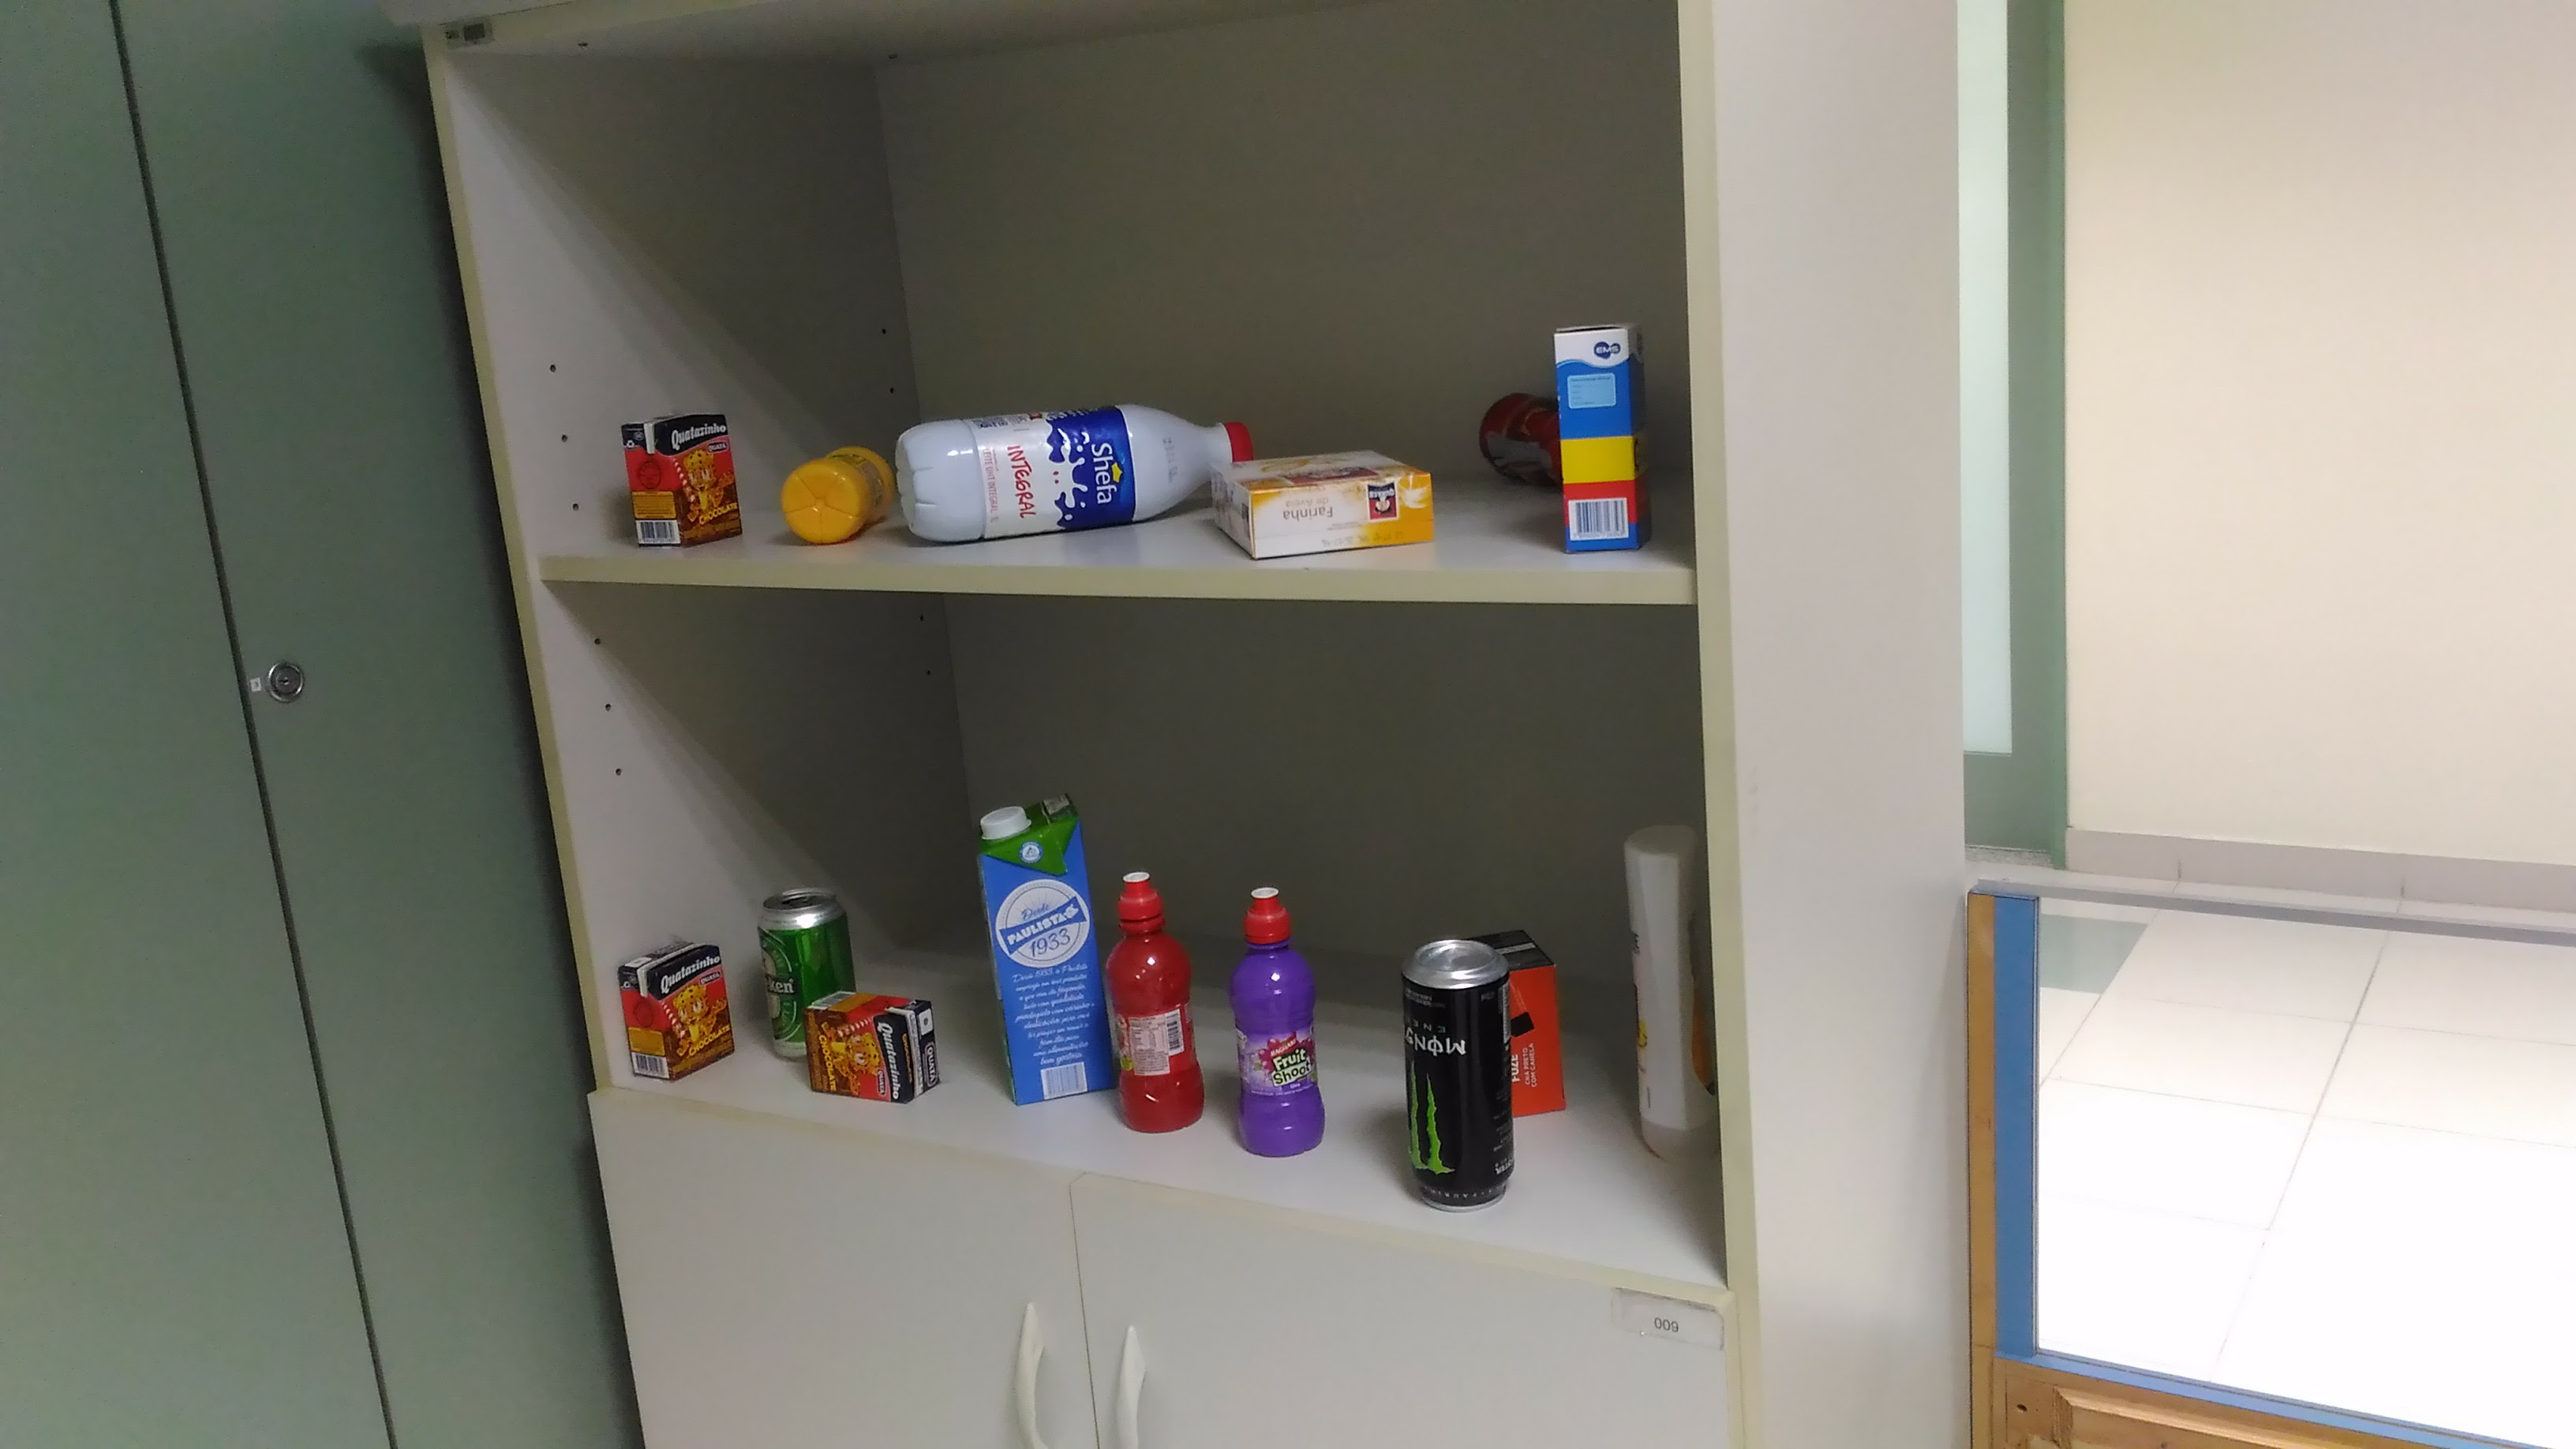cereal: (1204, 438, 1440, 568)
chocolate_milk: (606, 934, 752, 1087), (614, 404, 752, 551), (797, 985, 947, 1109)
iron_man: (1544, 309, 1657, 562)
milk_bottle: (890, 396, 1257, 549)
milk_box: (969, 788, 1119, 1106)
monster: (1395, 937, 1519, 1211)
purple_juice: (1218, 881, 1327, 1157)
red_juice: (1099, 858, 1218, 1143)
shampoo: (1615, 813, 1719, 1163)
yellow_juice: (775, 436, 902, 549)
